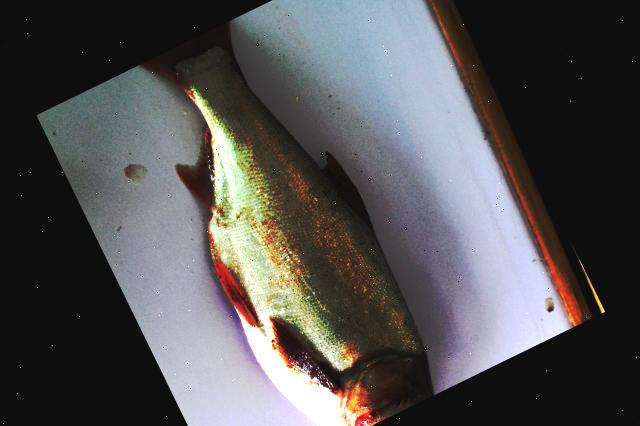Healthy Fish: (139, 21, 432, 426)
